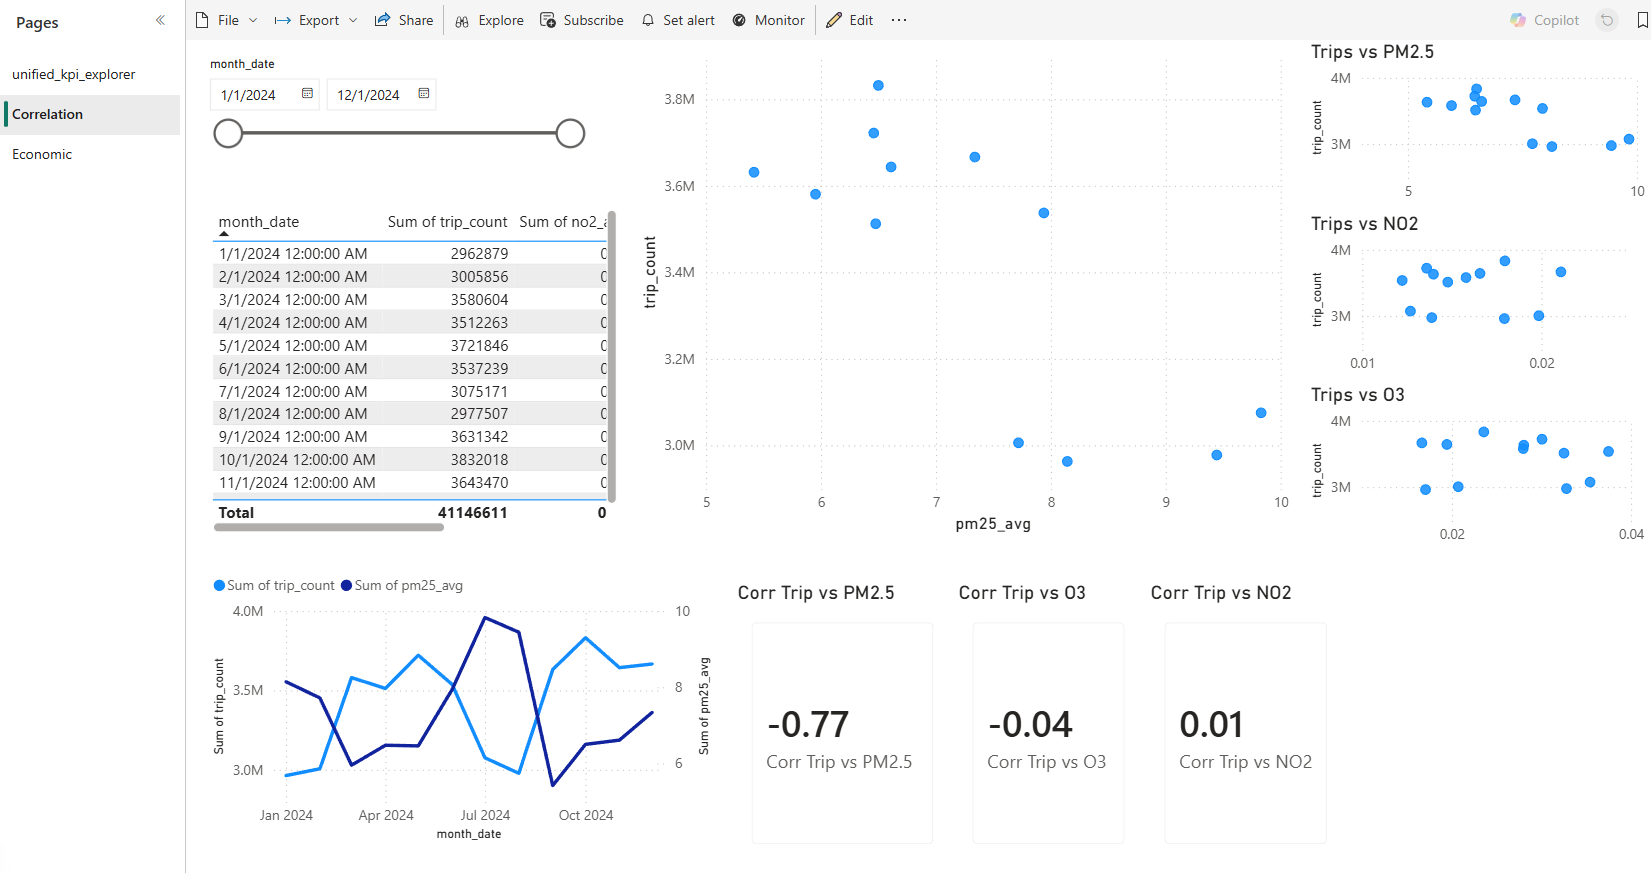

This screenshot's page, from the dashboard's own definition file:
{"tool":"powerbi","page":{"name":"Correlation","canvas":[1280,720],"ordinal":1},"visuals":[{"type":"slicer","fields":{"Values":["vw_CorrelationMonthly.month_date"]},"box":[7.9,9.9,348.5,102.3],"z":0},{"type":"lineChart","fields":{"Category":["vw_CorrelationMonthly.month_date"],"Y":["Sum(vw_CorrelationMonthly.trip_count)"],"Y2":["Sum(vw_CorrelationMonthly.pm25_avg)"]},"box":[18,456.6,445,247.3],"z":1000},{"type":"scatterChart","fields":{"X":["vw_CorrelationMonthly.pm25_avg"],"Y":["vw_CorrelationMonthly.trip_count"]},"box":[391.2,0,576.9,434.9],"z":2000},{"type":"tableEx","fields":{"Values":["vw_CorrelationMonthly.month_date","Sum(vw_CorrelationMonthly.trip_count)","Sum(vw_CorrelationMonthly.no2_avg)","Sum(vw_CorrelationMonthly.o3_avg)","Sum(vw_CorrelationMonthly.pm25_avg)"]},"box":[17.9,143,364.4,291.9],"z":3000},{"type":"cardVisual","title":"Corr Trip vs PM2.5","fields":{"Data":["vw_CorrelationMonthly.Corr Trip vs PM2.5"]},"box":[476.6,472.7,193.6,247.3],"z":4000},{"type":"cardVisual","title":"Corr Trip vs O3","fields":{"Data":["vw_CorrelationMonthly.Corr Trip vs O3"]},"box":[670.3,472.7,167.8,247.3],"z":5000},{"type":"cardVisual","title":"Corr Trip vs NO2","fields":{"Data":["vw_CorrelationMonthly.Corr Trip vs NO2"]},"box":[838.1,472.7,176.8,247.3],"z":6000},{"type":"scatterChart","title":"Trips vs PM2.5","fields":{"X":["vw_CorrelationMonthly.pm25_avg"],"Y":["vw_CorrelationMonthly.trip_count"]},"box":[978.1,0,301.9,149.9],"z":7000},{"type":"scatterChart","title":"Trips vs NO2","fields":{"Y":["vw_CorrelationMonthly.trip_count"],"X":["vw_CorrelationMonthly.no2_avg"]},"box":[978.1,149.9,301.9,149.9],"z":8000},{"type":"scatterChart","title":"Trips vs O3","fields":{"Y":["vw_CorrelationMonthly.trip_count"],"X":["vw_CorrelationMonthly.o3_avg"]},"box":[978.1,299.9,301.9,149.9],"z":9000}]}

Visuals, with their boxes on the page's 1280x720 design canvas (x1, y1, x2, y2). These are canvas units, not pixel positions in the 1651x873 screenshot, which may show the page scaled, cropped or inside an application window:
slicer - vw_CorrelationMonthly.month_date: (8,10,356,112)
lineChart - vw_CorrelationMonthly.month_date x Sum(vw_CorrelationMonthly.trip_count): (18,457,463,704)
scatterChart - vw_CorrelationMonthly.pm25_avg x vw_CorrelationMonthly.trip_count: (391,0,968,435)
tableEx - vw_CorrelationMonthly.month_date x Sum(vw_CorrelationMonthly.trip_count): (18,143,382,435)
"Corr Trip vs PM2.5" cardVisual: (477,473,670,720)
"Corr Trip vs O3" cardVisual: (670,473,838,720)
"Corr Trip vs NO2" cardVisual: (838,473,1015,720)
"Trips vs PM2.5" scatterChart: (978,0,1280,150)
"Trips vs NO2" scatterChart: (978,150,1280,300)
"Trips vs O3" scatterChart: (978,300,1280,450)
